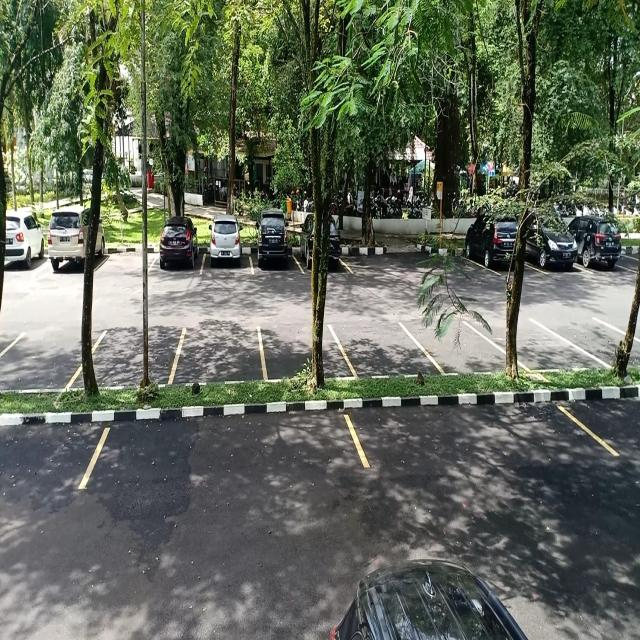empty: (80, 403, 366, 492), (345, 391, 601, 474), (0, 328, 100, 390), (92, 328, 182, 392), (176, 326, 264, 388), (339, 320, 423, 382), (260, 324, 344, 382), (422, 320, 503, 376), (513, 316, 584, 375), (102, 238, 158, 280)
occupied: (47, 208, 105, 276), (465, 210, 517, 276), (200, 217, 254, 276), (250, 212, 300, 274), (151, 217, 205, 274)
